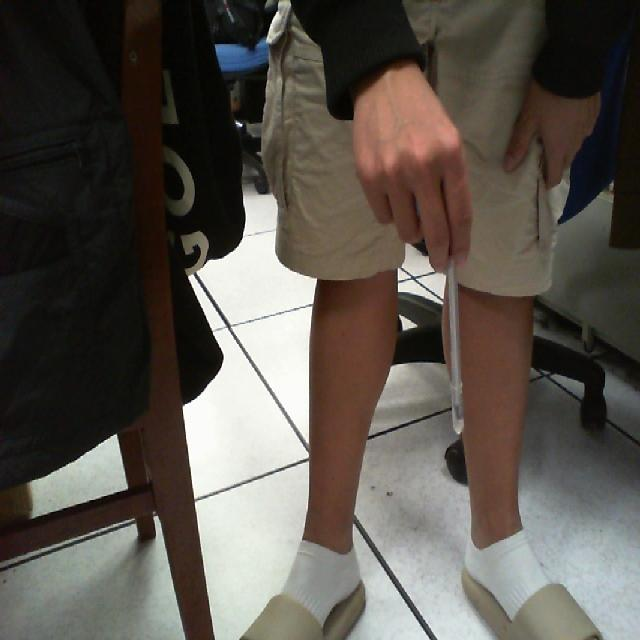Pen: (416, 224, 493, 451)
